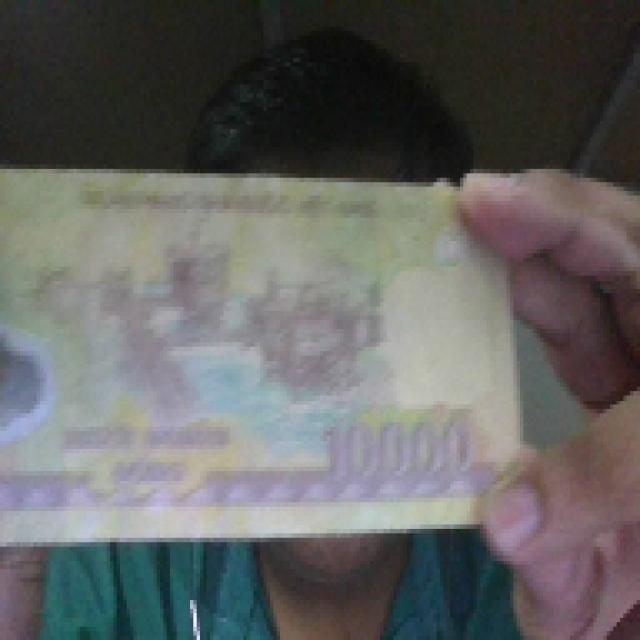10 000 VND: (0, 160, 530, 547)
